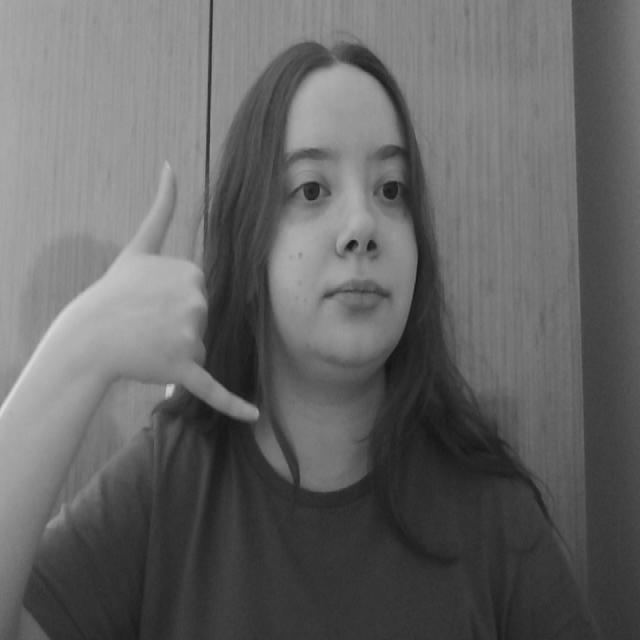Telefon: (123, 142, 265, 432)
